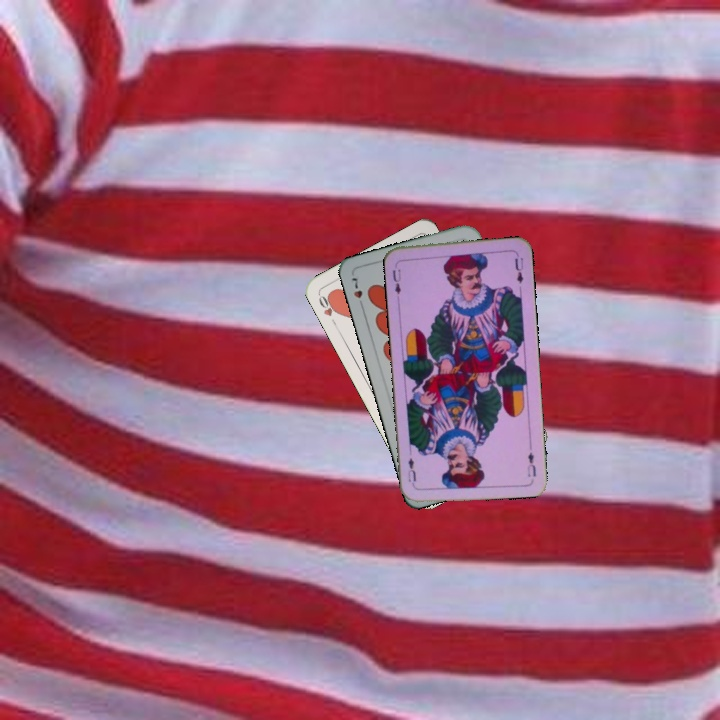EU: (388, 265, 404, 296), (523, 448, 538, 479)
H7: (348, 273, 366, 311)
HO: (315, 290, 341, 329)
